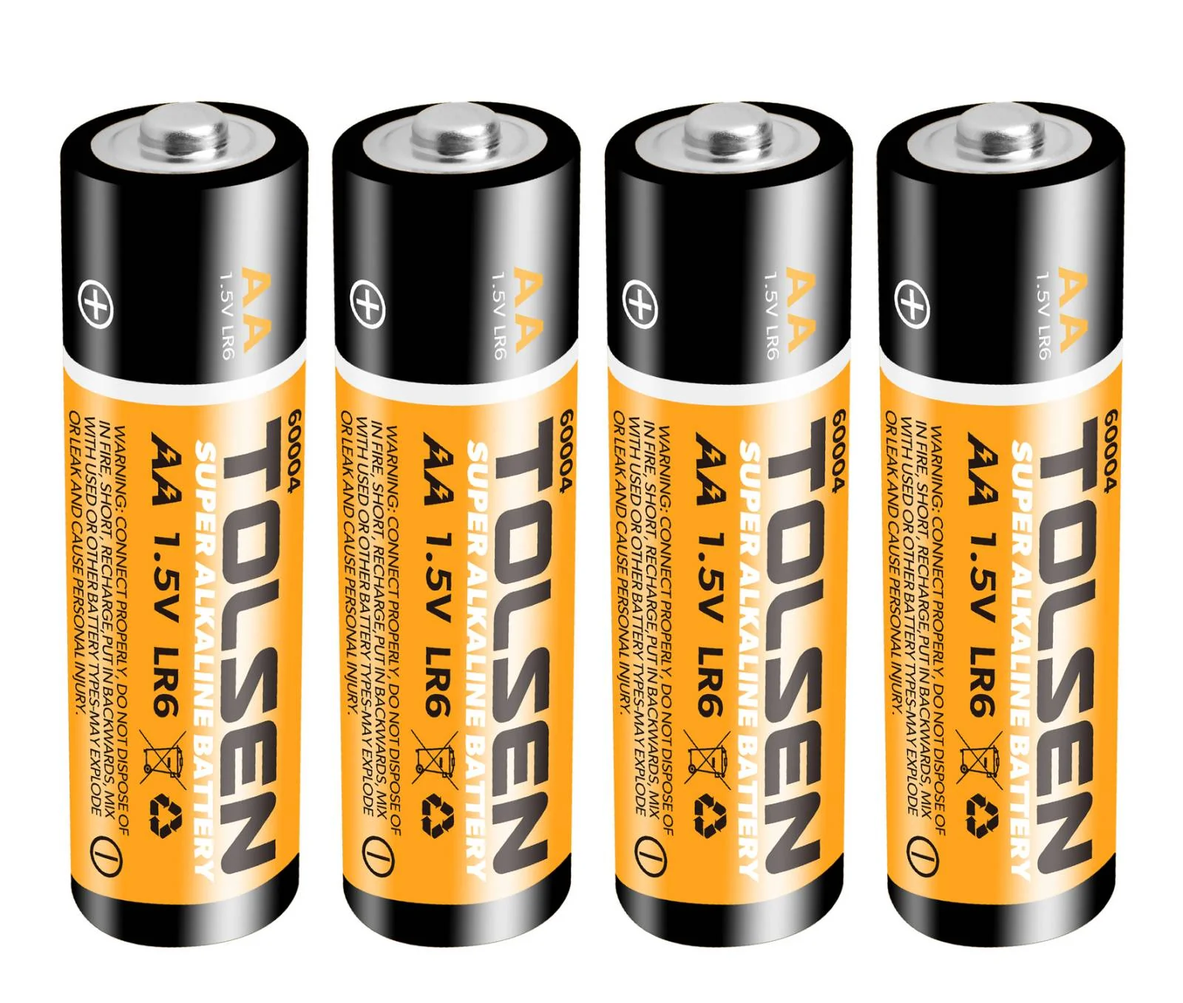toxic_waste: (871, 103, 1137, 947), (326, 108, 572, 950), (606, 113, 854, 937), (61, 109, 296, 939)
